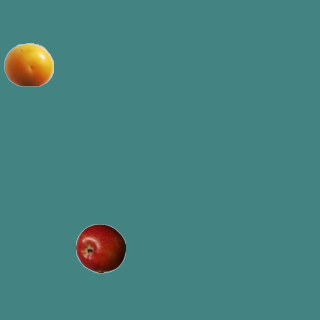Apple Braeburn: (75, 223, 125, 273)
Cherry Wax Yellow: (3, 39, 53, 89)
